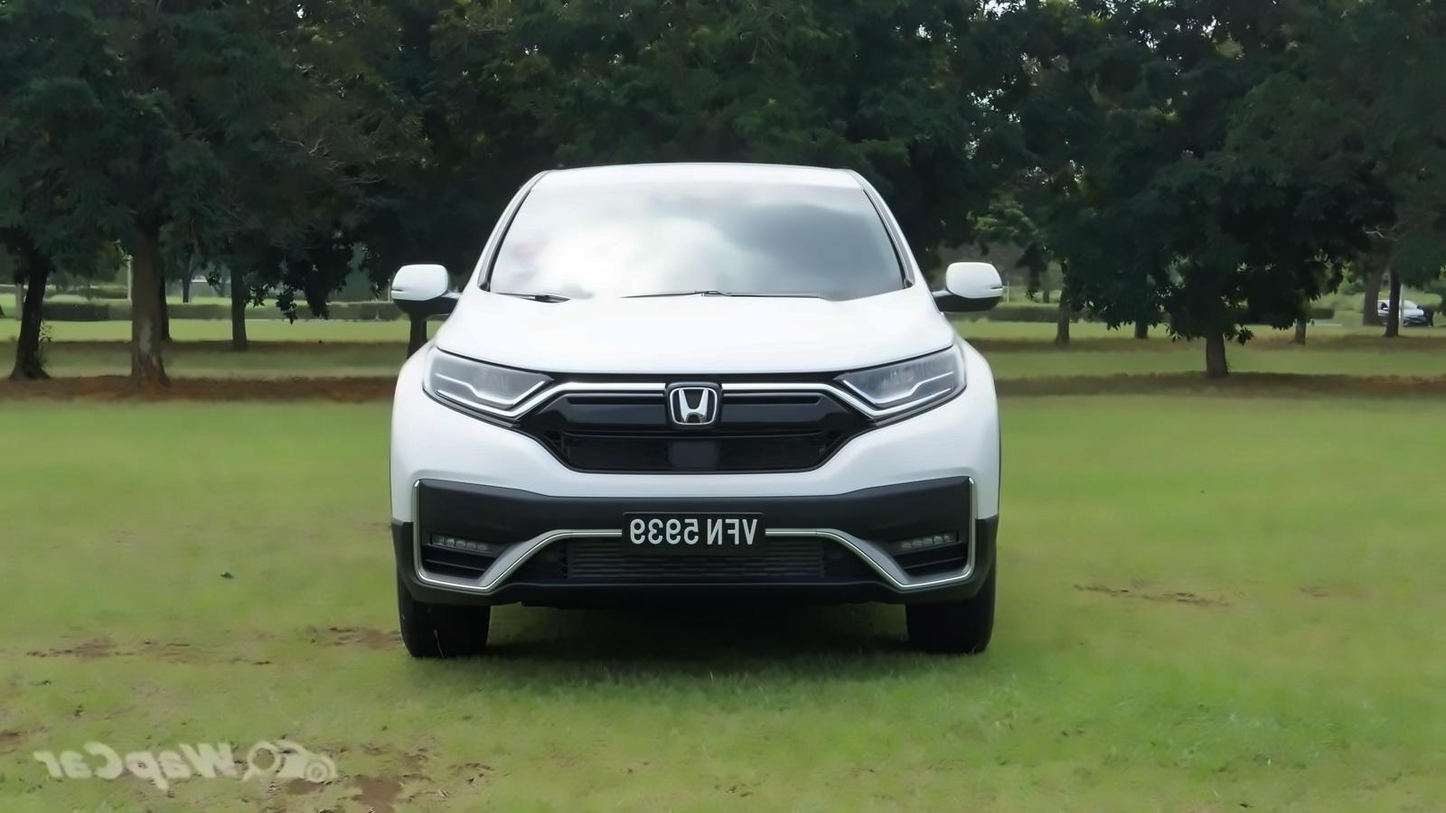Car hood: (435, 285, 952, 387)
Front bumper: (384, 372, 1008, 622)
Headlight - -L-: (808, 337, 972, 420)
Headlight - -R-: (412, 340, 567, 433)
Side mirror - -L-: (918, 252, 1003, 317)
Side mirror - -R-: (389, 265, 463, 313)
